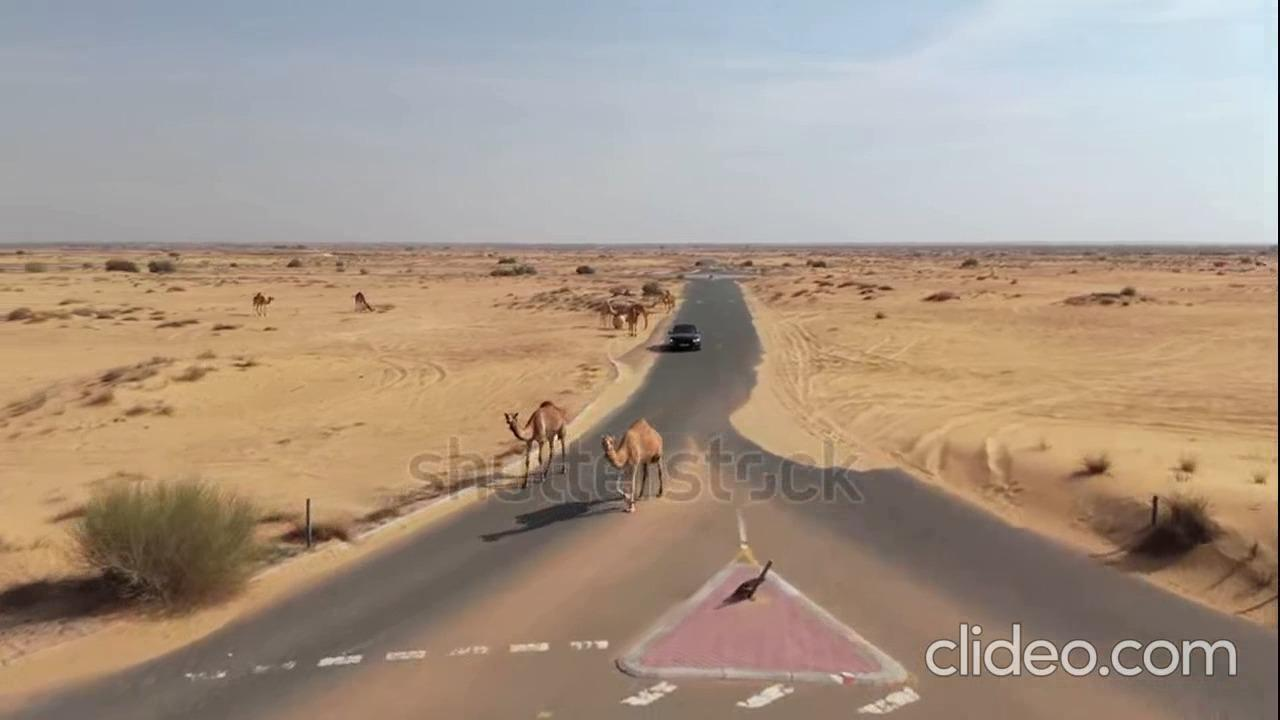camel: (594, 412, 673, 519), (494, 390, 575, 491)
